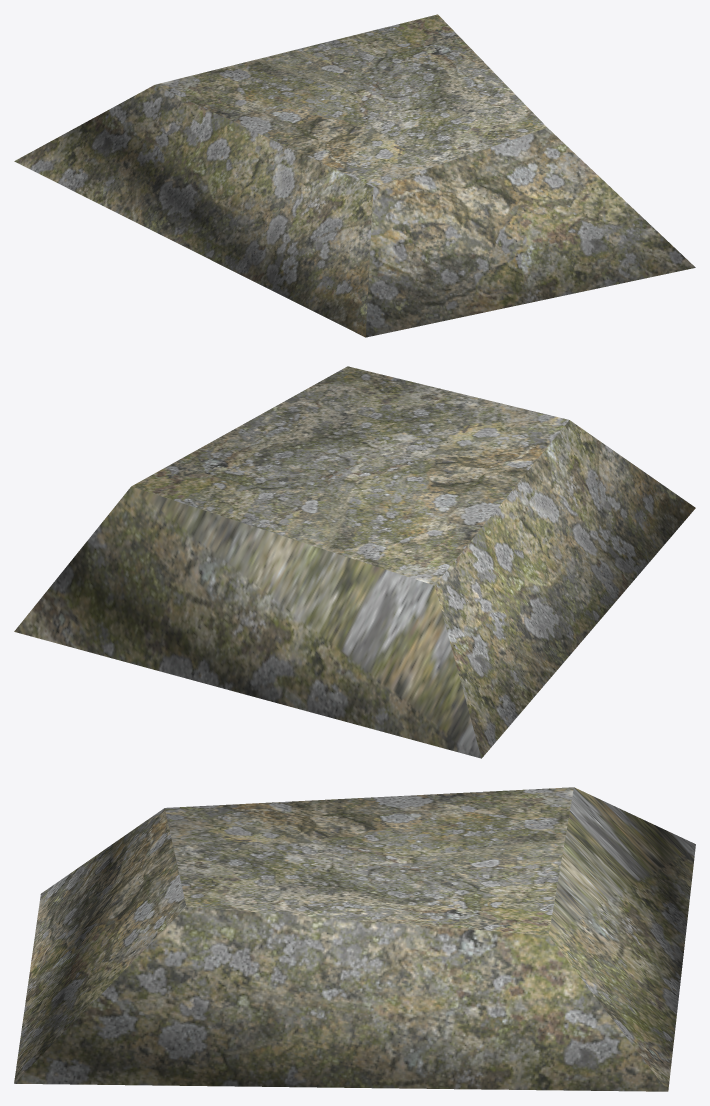
The model's file is rock_001.glb.
3 renders of one model, top to bottom at view 1: azimuth 30°, elevation 25°; view 2: azimuth 150°, elevation 25°; view 3: azimuth 270°, elevation 25°, orthographic. The views are drawn at different scales.
Visible parts, largest first — view 1: Cube.026; view 2: Cube.026; view 3: Cube.026.
Boxes of the visible parts, x1,y1,x2,y2 form: Cube.026: (14,14,695,337); Cube.026: (14,366,695,758); Cube.026: (14,787,695,1091).
Size of the model in its own units: 0.3652 by 0.09 by 0.4253.
Materials: 1 (1 with a texture image).
